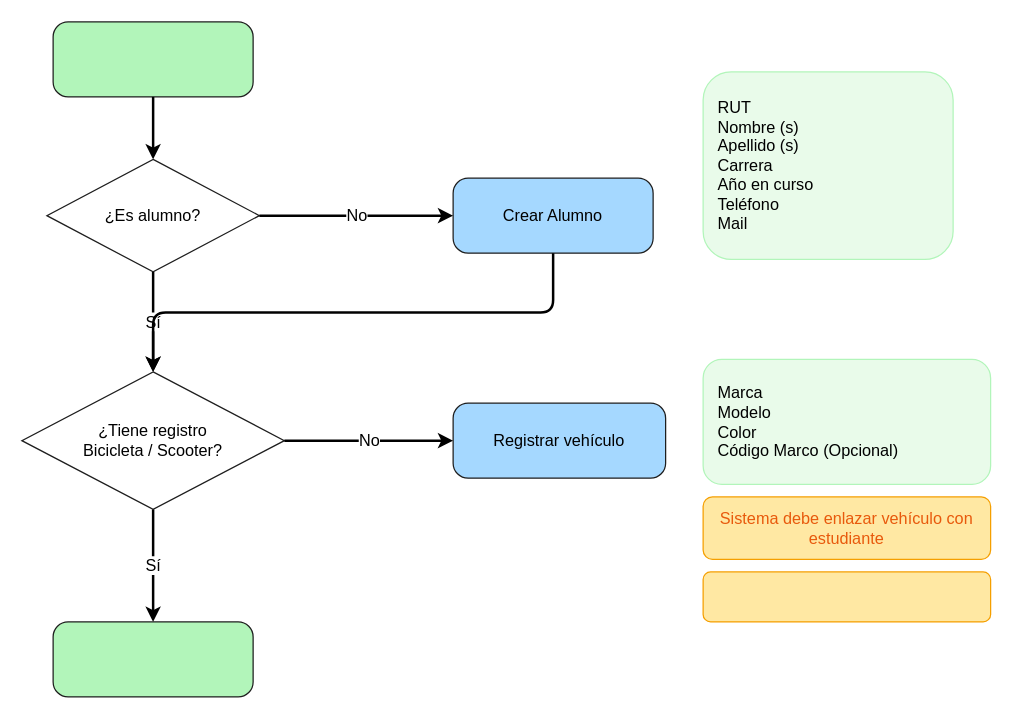
This 1013x719 diagram has some shape labels left out. Here are the shapes that lost their labels. From the top down, the box of each, then its label:
(52, 21, 253, 97): Registro
(702, 571, 991, 622): Máximo 3 vehículos por estudiante
(52, 621, 253, 697): Mostrar vehículo (s)
